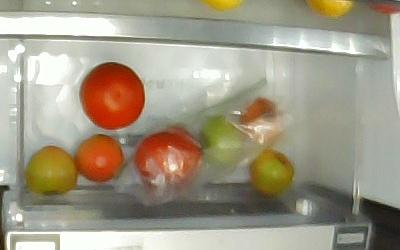tomato: (79, 61, 146, 131), (25, 145, 77, 195), (75, 134, 124, 183), (249, 149, 295, 196)
tomato_vinyl: (135, 126, 203, 191), (239, 97, 281, 146), (197, 115, 240, 162)
